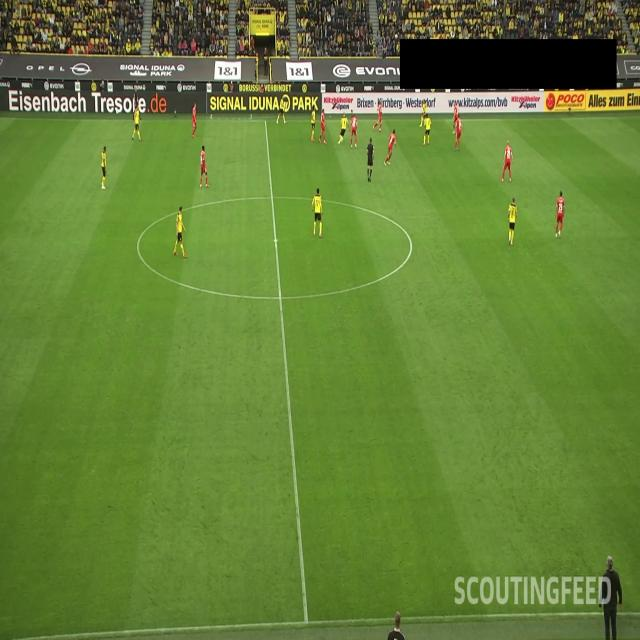Ball: (394, 34, 398, 40)
Referee: (366, 137, 375, 181), (132, 87, 142, 120)
TEAM 1: (500, 140, 514, 182), (198, 145, 210, 190), (383, 130, 397, 167), (555, 190, 565, 238), (453, 116, 462, 151), (373, 103, 383, 133), (319, 109, 327, 146), (350, 114, 358, 150), (191, 103, 199, 139), (452, 102, 458, 131)
TEAM 2: (172, 206, 188, 260), (312, 188, 323, 238), (508, 197, 517, 245), (131, 104, 142, 143), (276, 94, 287, 126), (338, 111, 348, 146), (101, 146, 107, 191), (423, 114, 431, 146), (419, 101, 428, 127), (310, 105, 316, 142)
